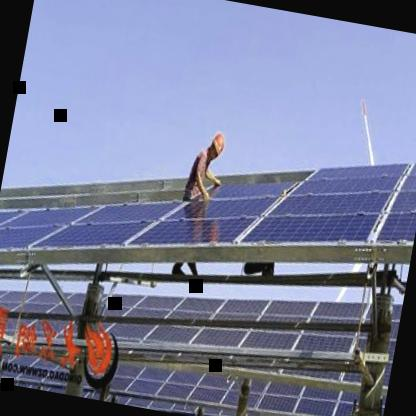helmet: (206, 128, 228, 165)
